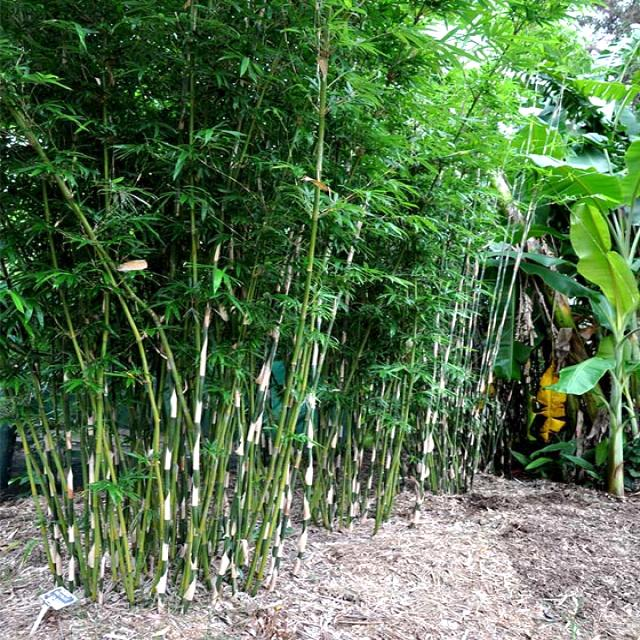Clumping: (0, 0, 558, 612)
